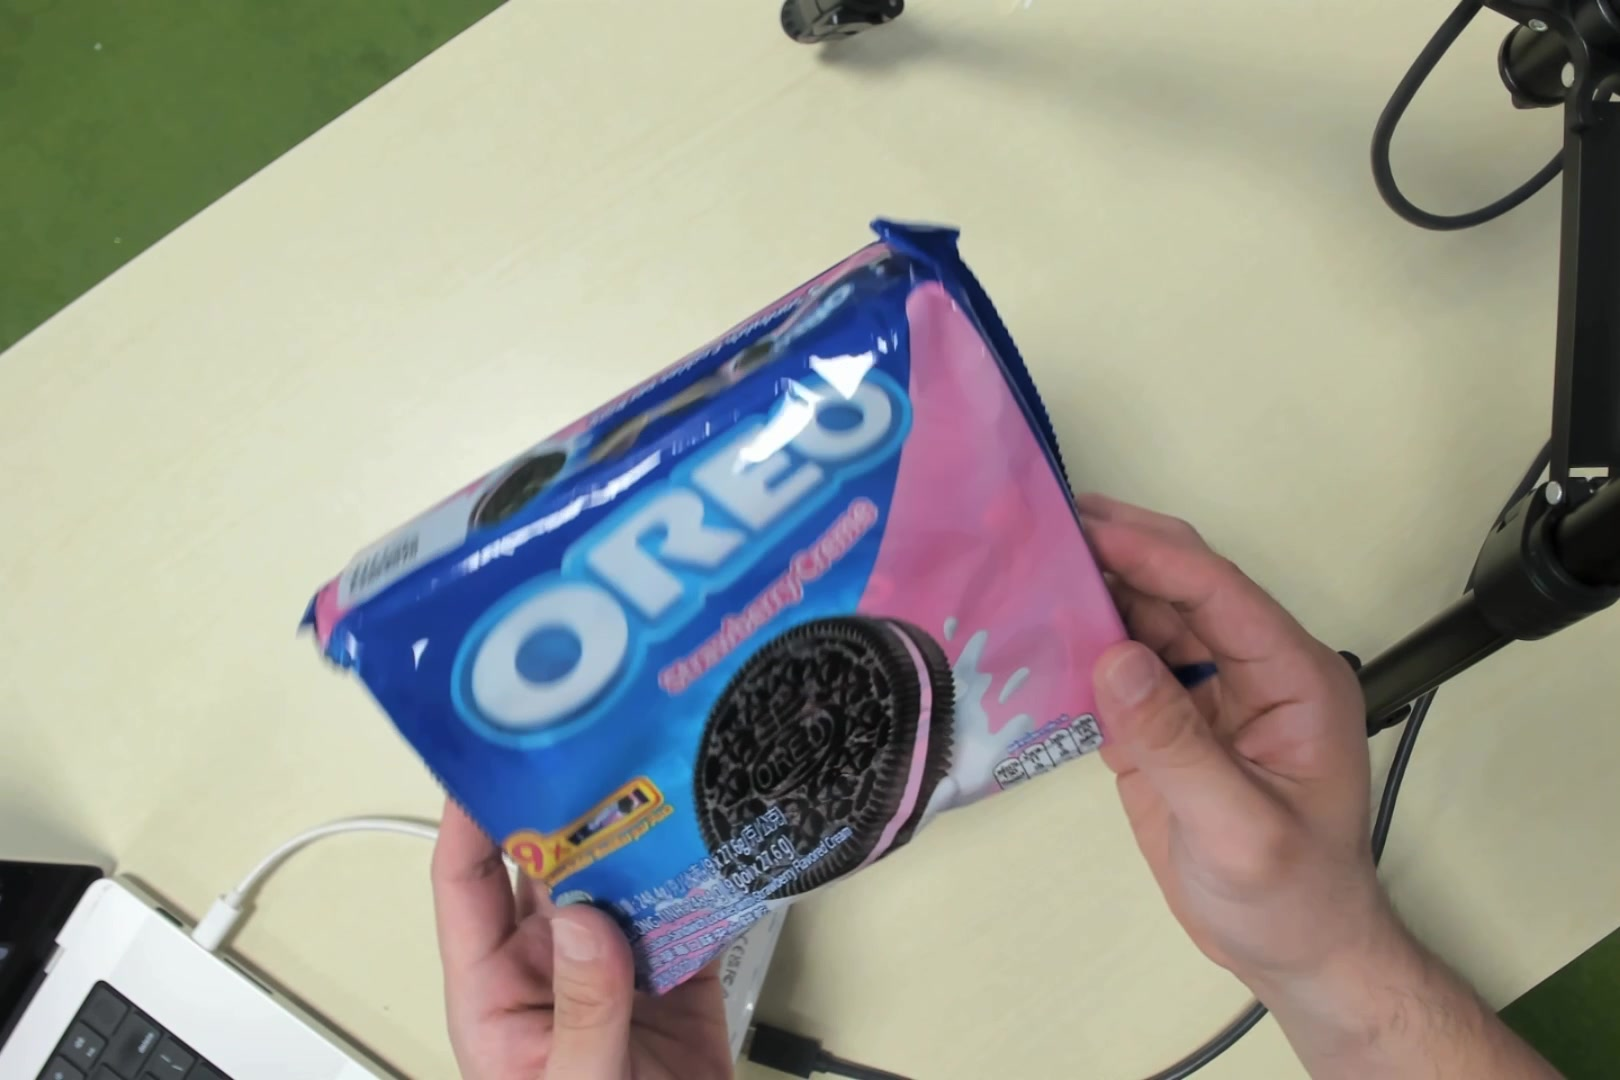SweetsChocolatesOthers_200-299g_Halal_NonHealthy: (375, 258, 1066, 915)
